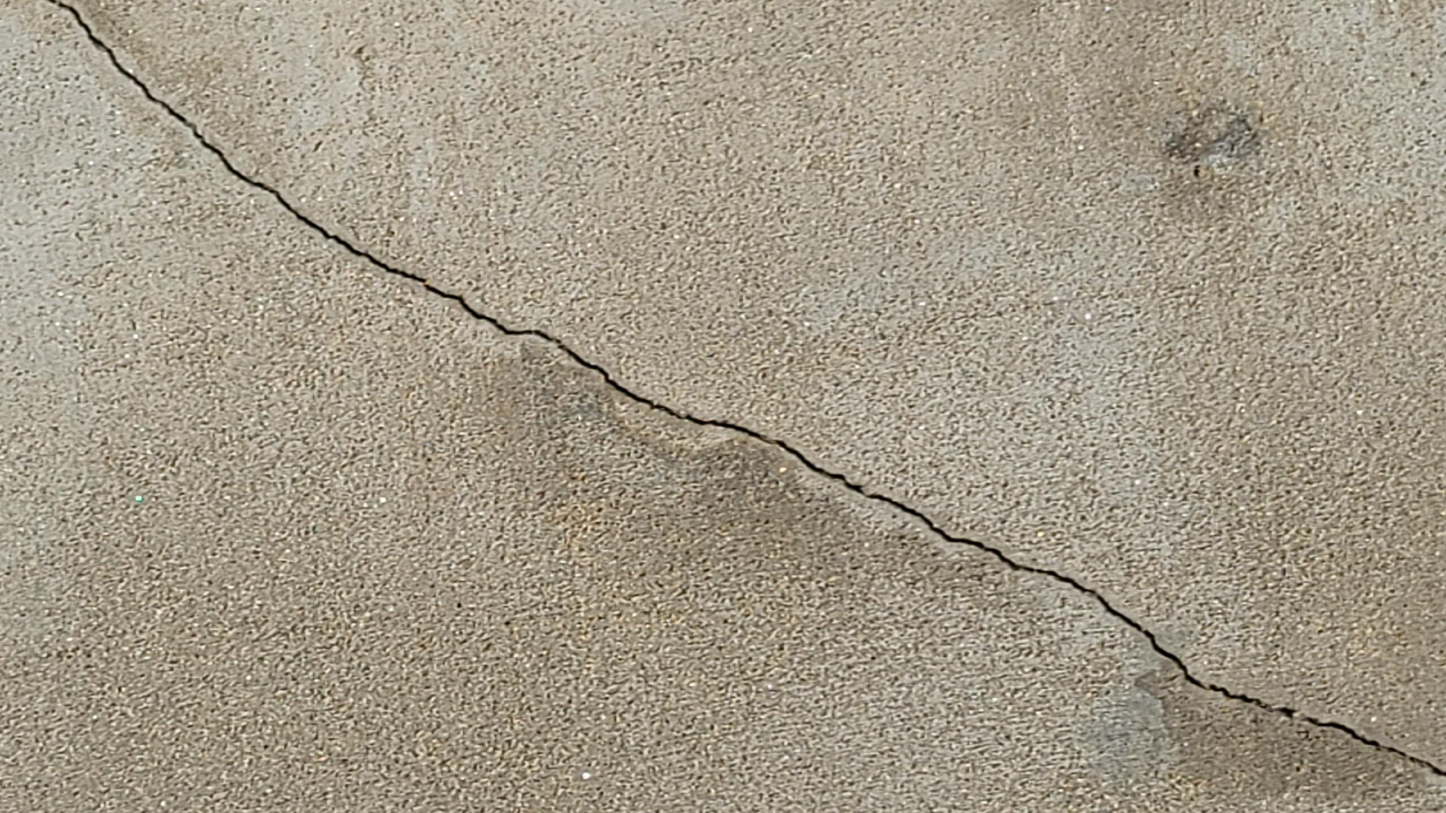crack: (44, 0, 1445, 776)
